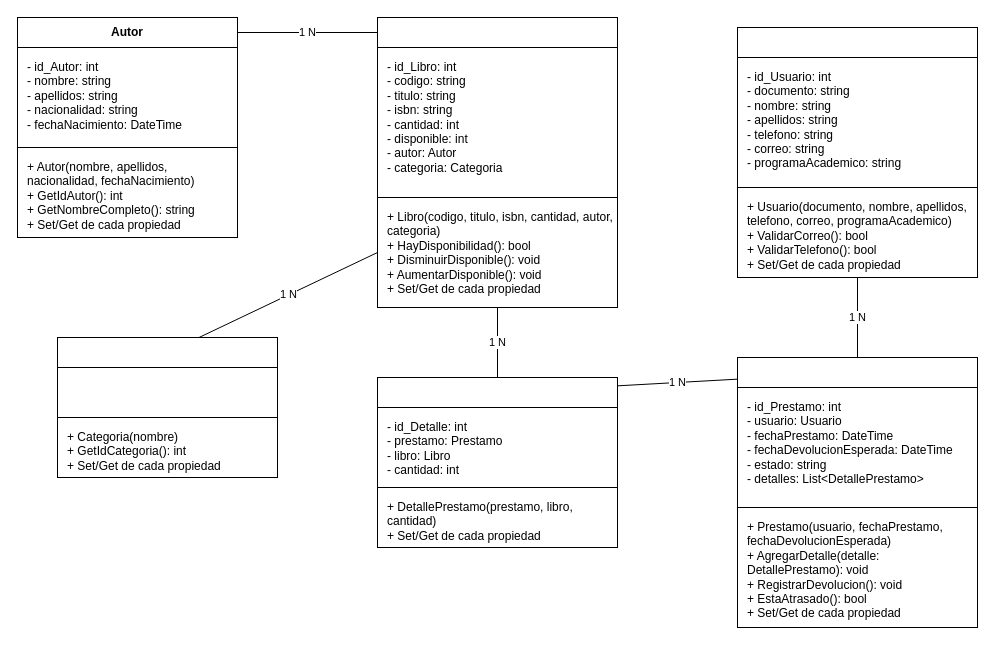
This 995x645 diagram has some shape labels left out. Each missing label, with the centre of its shape:
- id_Categoria: int - nombre: string: the point at 167,392
Categoria: the point at 167,352
DetallePrestamo: the point at 497,392
Libro: the point at 497,32
Prestamo: the point at 857,372
Usuario: the point at 857,42
